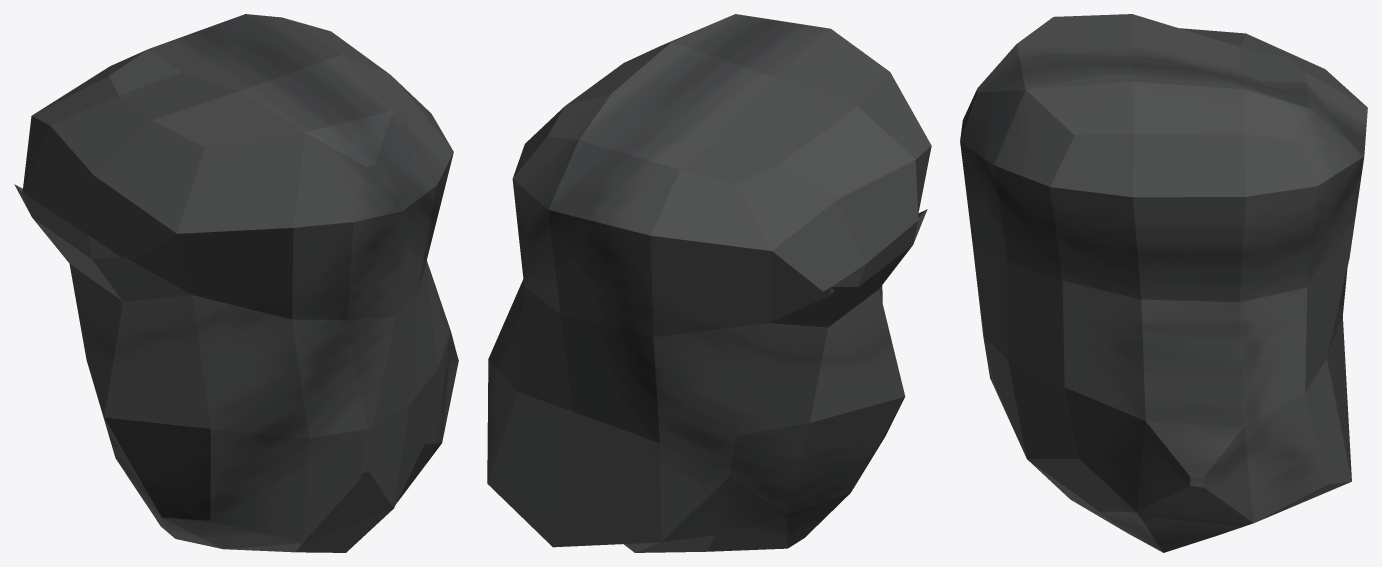
The model's file is Projectile_Rock_1_L.fbx.
3 renders of one model, left to right at view 1: azimuth 30°, elevation 25°; view 2: azimuth 150°, elevation 25°; view 3: azimuth 270°, elevation 25°, orthographic. The views are drawn at different scales.
Visible parts, largest first — view 1: rock_4_L; view 2: rock_4_L; view 3: rock_4_L.
Boxes of the visible parts, box(x1,y1,x2,y2) form: rock_4_L: box(14, 14, 458, 552); rock_4_L: box(487, 14, 931, 552); rock_4_L: box(960, 14, 1367, 552).
Bounding box in the file's own units: 118 × 135 × 111.
